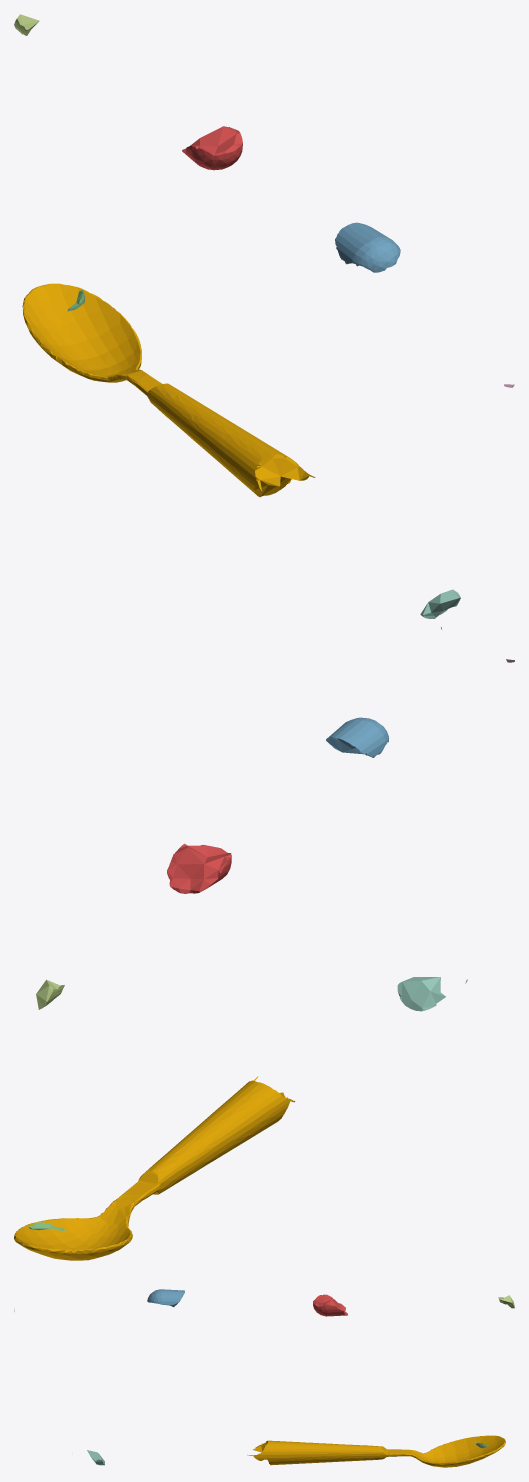
Rendered from mode_17_8pcs_transformed.glb.
The picture shows the model from 3 angles, top to bottom: view 1: azimuth 30°, elevation 25°; view 2: azimuth 150°, elevation 25°; view 3: azimuth 270°, elevation 25°; orthographic projection. The views are drawn at different scales.
Visible parts, largest first — view 1: piece_0.obj, piece_2.obj, piece_1.obj; view 2: piece_0.obj, piece_1.obj, piece_2.obj, piece_4.obj; view 3: piece_0.obj, piece_1.obj, piece_2.obj.
Part boxes in pixels (bbox=[...]): piece_0.obj: bbox=[22, 283, 315, 497]; piece_2.obj: bbox=[335, 222, 400, 272]; piece_1.obj: bbox=[182, 126, 242, 170]; piece_0.obj: bbox=[14, 1076, 295, 1260]; piece_1.obj: bbox=[167, 843, 231, 893]; piece_2.obj: bbox=[326, 717, 388, 757]; piece_4.obj: bbox=[397, 977, 445, 1011]; piece_0.obj: bbox=[247, 1435, 505, 1467]; piece_1.obj: bbox=[313, 1294, 347, 1316]; piece_2.obj: bbox=[147, 1289, 184, 1307].
Bounding box in the file's own units: 0.1912 × 0.6966 × 1.82.
